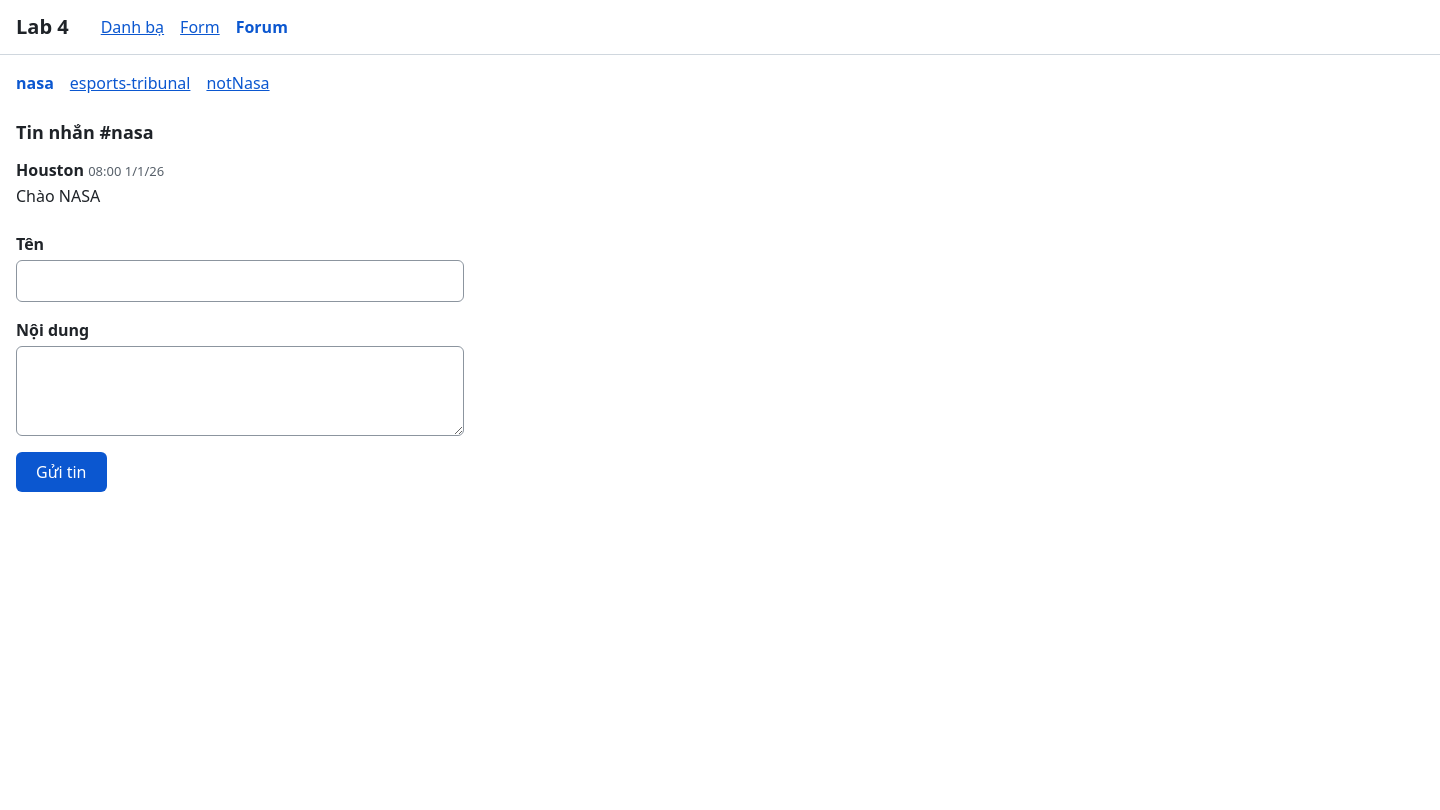
it: ForumPage › gửi tin hợp lệ → POST, refetch, tin mới hiện ra, ô nội dung được xoá
The width and height of the screenshot is (1440, 810).
Check: the text "Chào NASA" is shown, box top-left (16, 185), bottom-right (100, 207)
Type "An" into the field labelled "Tên" at x=240, y=281, box top-left (16, 260), bottom-right (464, 302)
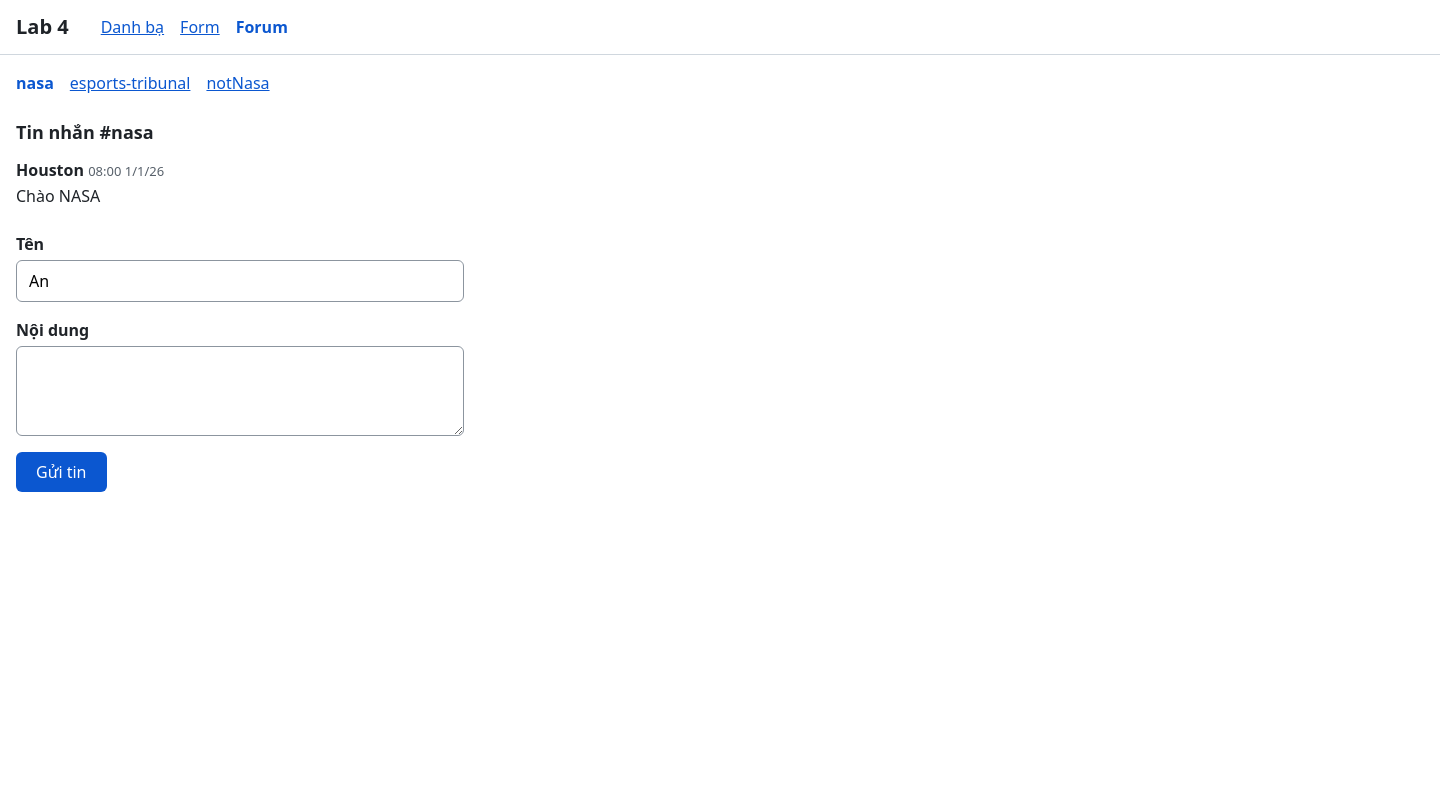
Type "Tin mới" into the text box labelled "Nội dung" at x=240, y=391, box top-left (16, 346), bottom-right (464, 436)
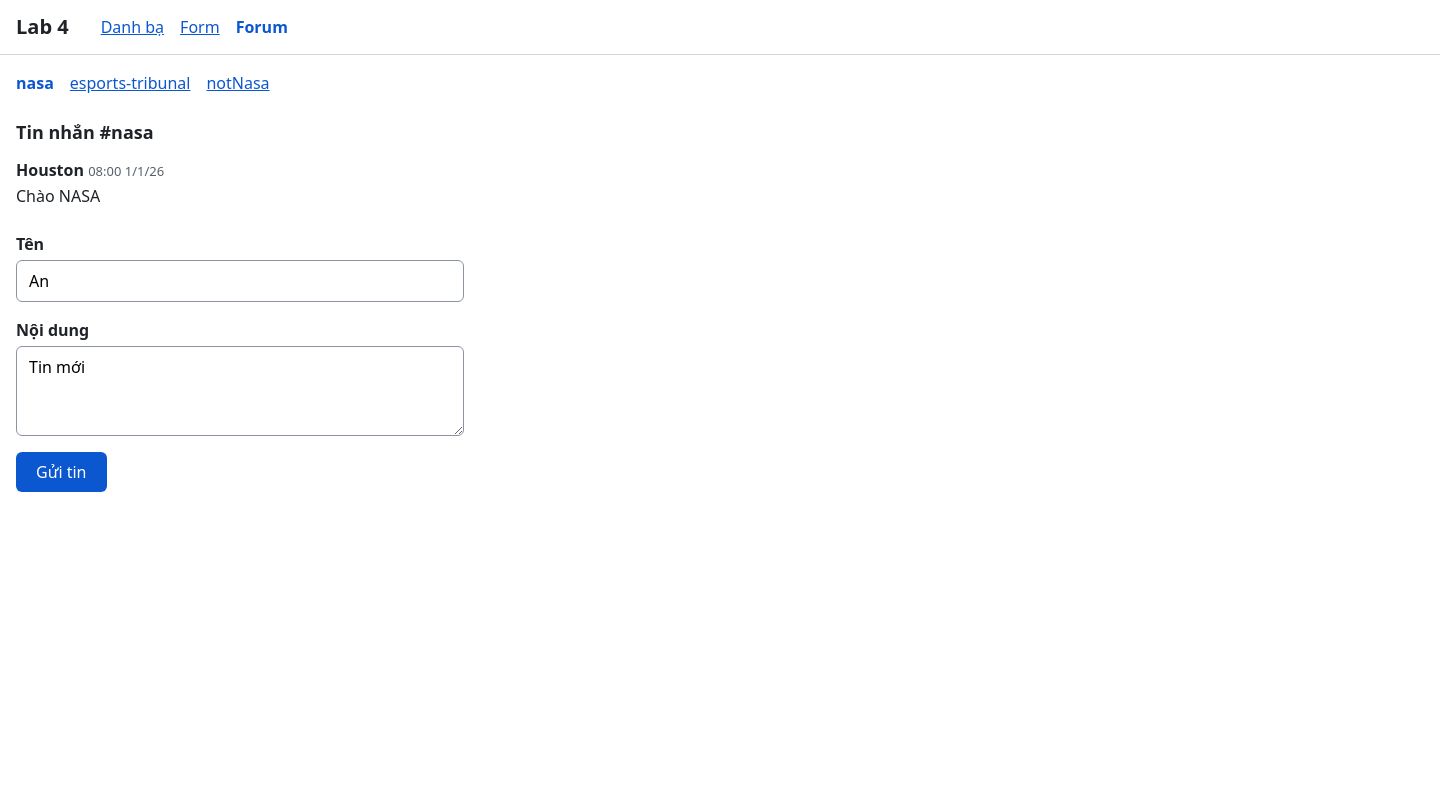
Click the button "Gửi tin" at x=61, y=472, box top-left (16, 452), bottom-right (106, 492)
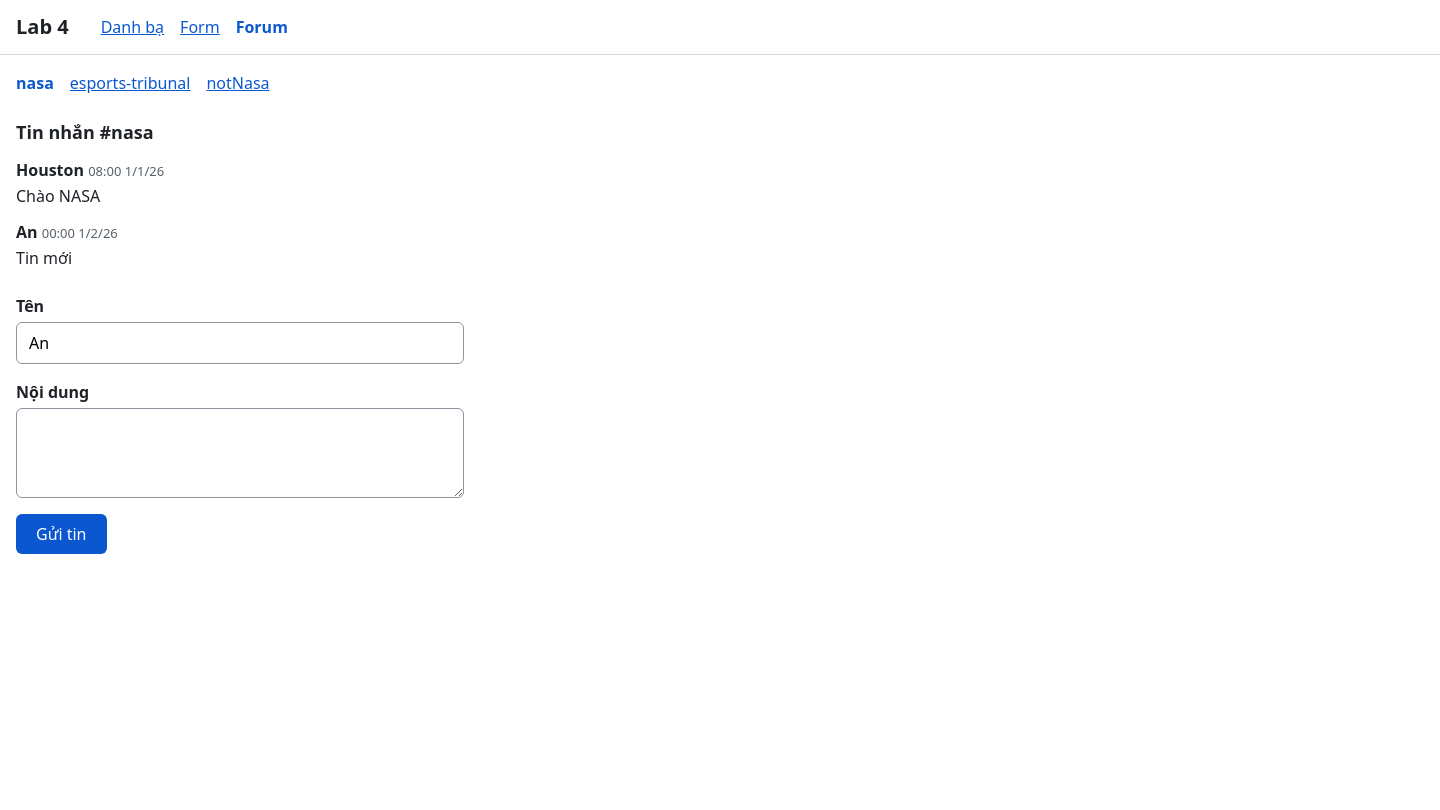
Check: the text "Tin mới" is shown, box top-left (16, 247), bottom-right (72, 269)
Check: the text box labelled "Nội dung" is empty, box top-left (16, 408), bottom-right (464, 498)
